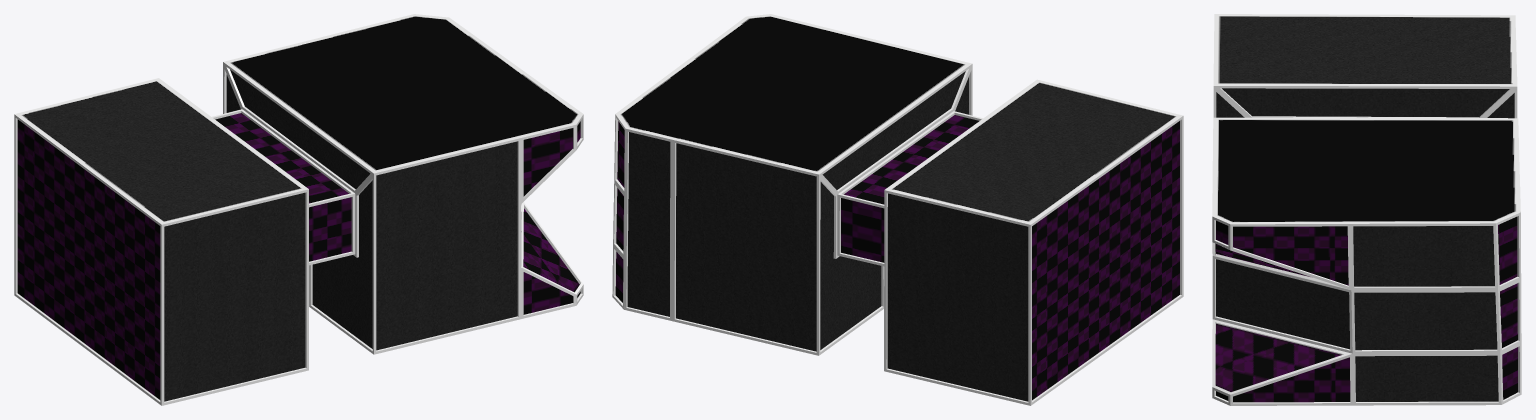
File: block4_b1_MESH.fbx
3 views of the same model, side by side, from view 1: azimuth 30°, elevation 25°; view 2: azimuth 150°, elevation 25°; view 3: azimuth 270°, elevation 25° (orthographic).
Visible parts, largest first — view 1: block4_b1_MESH; view 2: block4_b1_MESH; view 3: block4_b1_MESH.
Boxes of the visible parts, x1,y1,x2,y2 form: block4_b1_MESH: (14, 14, 583, 405); block4_b1_MESH: (612, 14, 1183, 405); block4_b1_MESH: (1212, 14, 1521, 405).
Bounding box in the file's own units: 9821 × 6107 × 3955.
